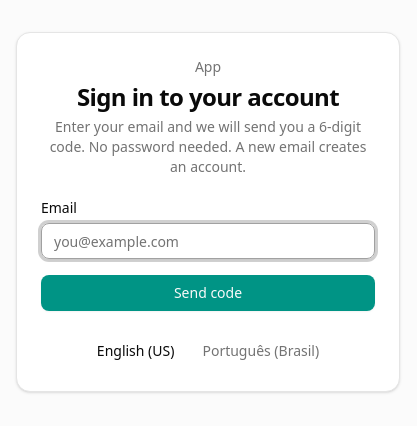
LoginPage › goes back to the email step
In the field labelled "Email": (208, 241) [41, 223, 375, 259], type "ana@example.com"
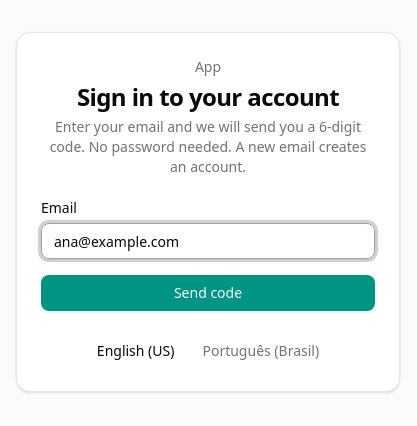
Click the button "Send code": (208, 293) [41, 275, 375, 311]
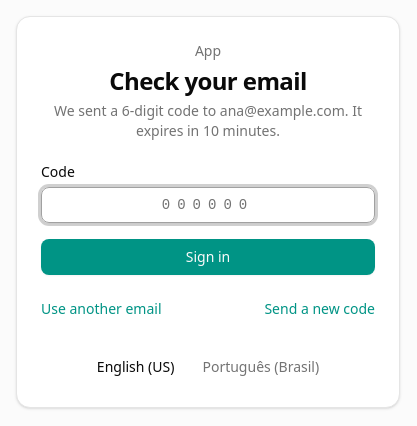
Expected: the heading "Check your email" is shown, [109, 64, 307, 97]
Click the button "Use another email": (101, 309) [41, 291, 162, 327]
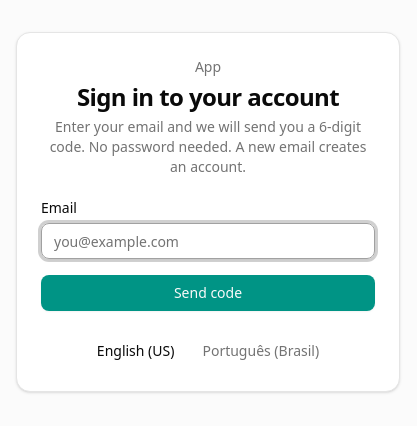
Expected: the heading "Sign in to your account" is shown, [77, 80, 339, 113]
